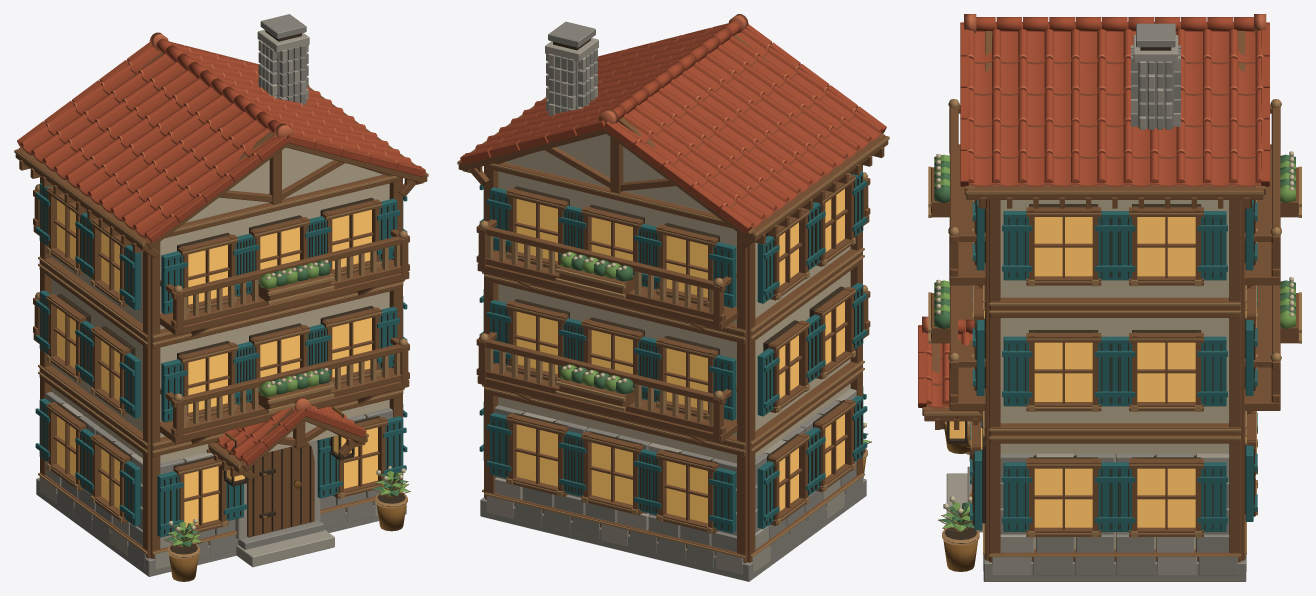
3 renders of one model, left to right at view 1: azimuth 30°, elevation 25°; view 2: azimuth 150°, elevation 25°; view 3: azimuth 270°, elevation 25°, orthographic. The views are drawn at different scales.
Parts seen in each view (by area): view 1: alpine_hotel_3_geometry; view 2: alpine_hotel_3_geometry; view 3: alpine_hotel_3_geometry.
Part boxes in pixels (x1,y1,x2,y2): alpine_hotel_3_geometry: (14,14,428,581); alpine_hotel_3_geometry: (457,14,889,581); alpine_hotel_3_geometry: (918,14,1301,581).
Size of the model in its own units: 0.99 by 1.47 by 0.98.
